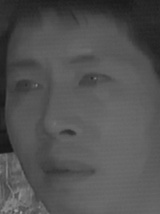eye: (76, 70, 111, 94), (11, 76, 46, 97)
mouth: (38, 154, 97, 186)
